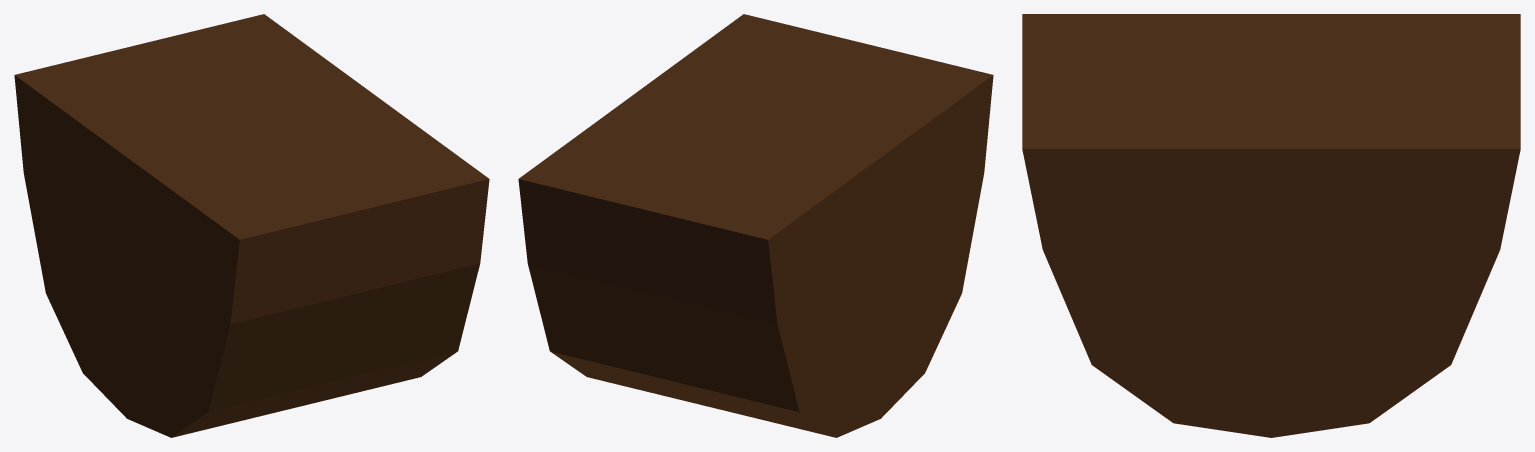
Rendered from PlatformBottomMiddle.obj.
3 renders of one model, left to right at view 1: azimuth 30°, elevation 25°; view 2: azimuth 150°, elevation 25°; view 3: azimuth 270°, elevation 25°, orthographic. The views are drawn at different scales.
Visible parts, largest first — view 1: Platform_BottomMiddle_Cube.050; view 2: Platform_BottomMiddle_Cube.050; view 3: Platform_BottomMiddle_Cube.050.
Boxes of the visible parts, x1,y1,x2,y2 form: Platform_BottomMiddle_Cube.050: (14, 14, 489, 437); Platform_BottomMiddle_Cube.050: (518, 14, 993, 437); Platform_BottomMiddle_Cube.050: (1022, 14, 1520, 437).
Size of the model in its own units: 2 by 2 by 3.13.
